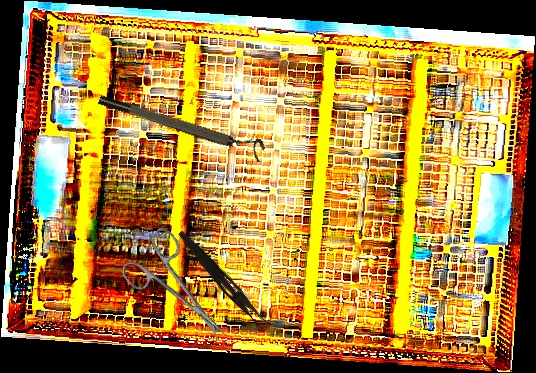Dressing Forceps: (172, 229, 275, 333)
Fixation Ring: (97, 85, 267, 163)
Iris Scissors: (114, 224, 246, 361)
